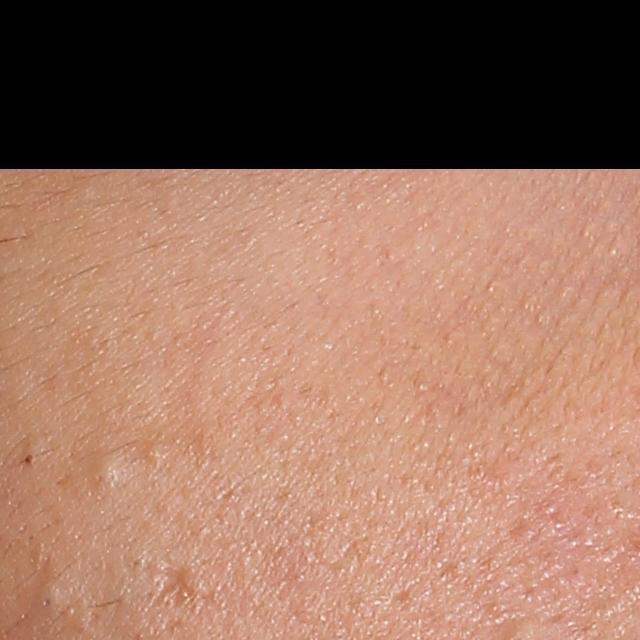atrophic_scar: (145, 556, 196, 614)
comedo: (140, 436, 172, 463)
